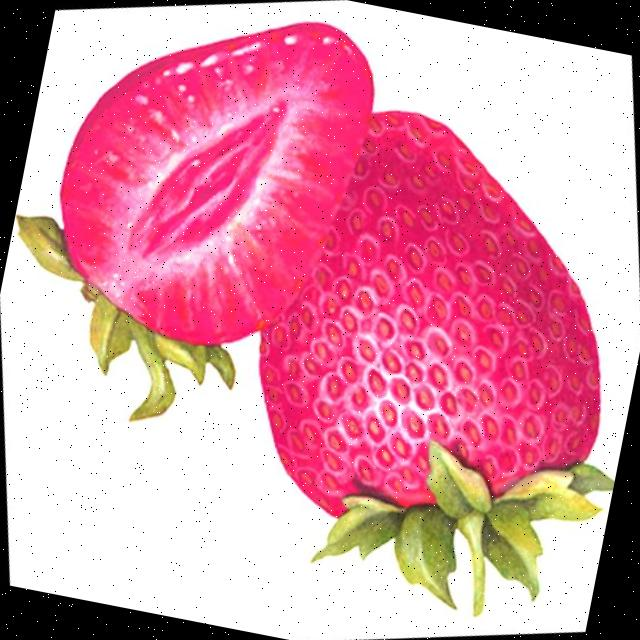strawberry: (259, 111, 614, 614), (17, 23, 372, 418)
